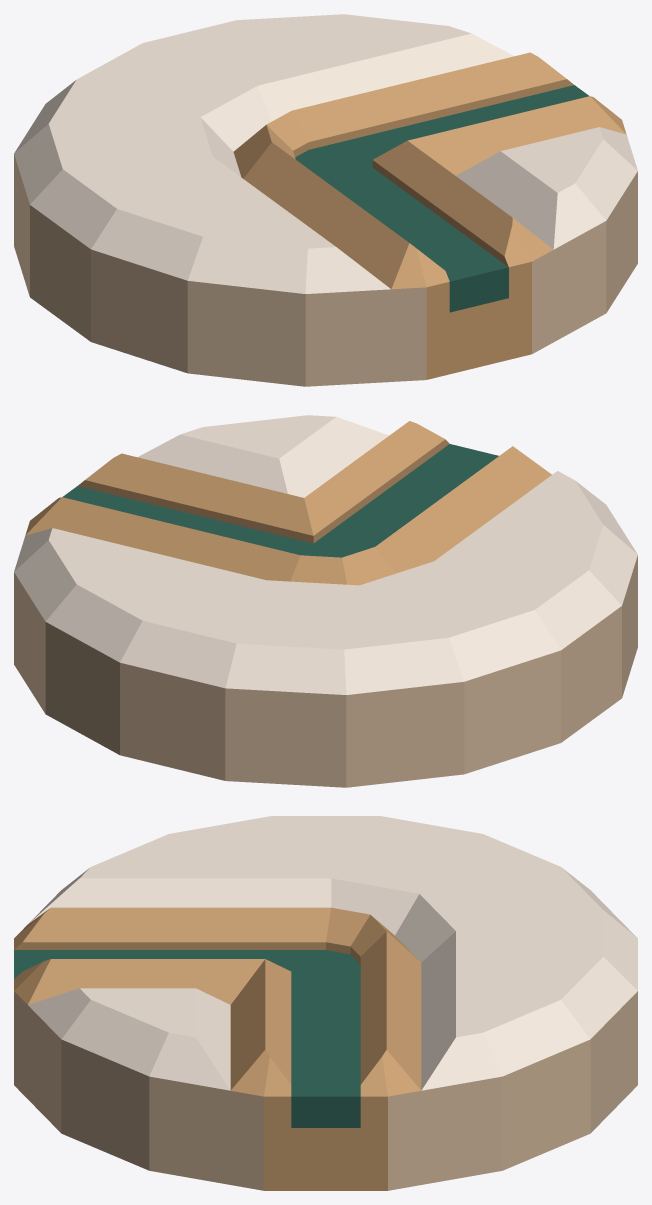
The picture shows the model from 3 angles, top to bottom: view 1: azimuth 30°, elevation 25°; view 2: azimuth 150°, elevation 25°; view 3: azimuth 270°, elevation 25°; orthographic projection.
Visible parts, largest first — view 1: mergedBlocks(Clone); view 2: mergedBlocks(Clone); view 3: mergedBlocks(Clone).
Boxes of the visible parts, <box> form: mergedBlocks(Clone): <box>14,14,637,386</box>; mergedBlocks(Clone): <box>14,415,637,787</box>; mergedBlocks(Clone): <box>14,816,637,1190</box>.
Size of the model in its own units: 2.7 by 0.6 by 2.7.
